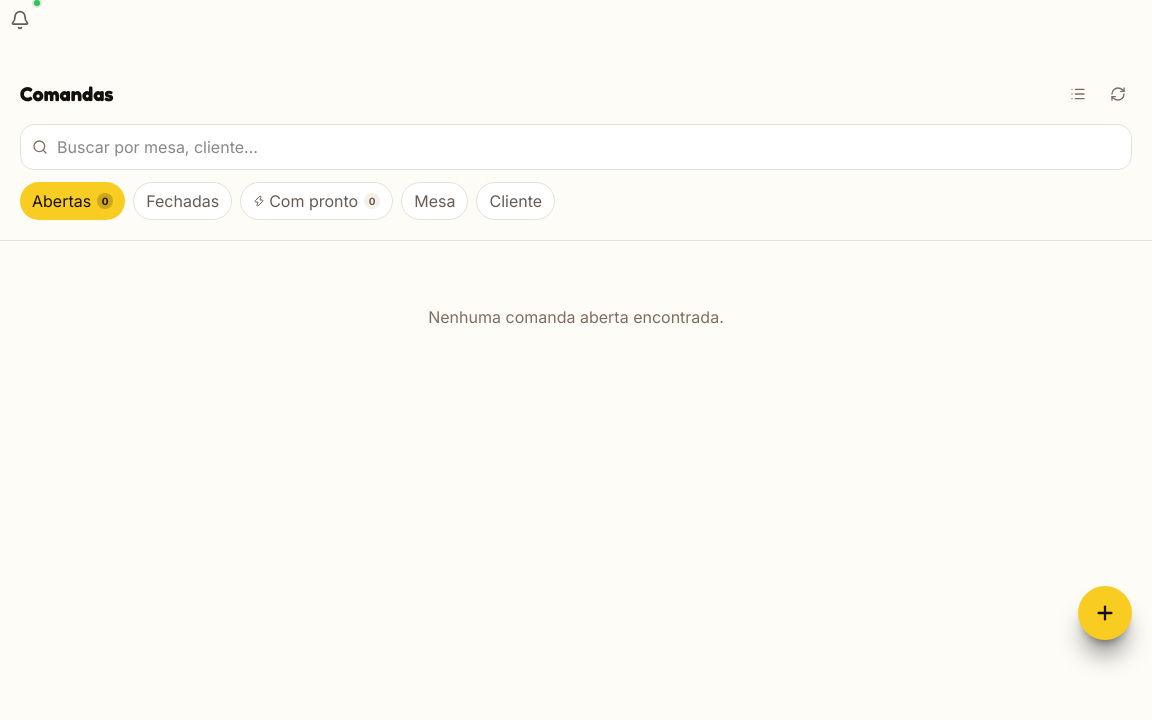
Test case: sino no header › sem alertas: sem badge, e o drawer diz que está vazio
Click the button named "Alertas" at (20, 20), box [0,0,40,40]
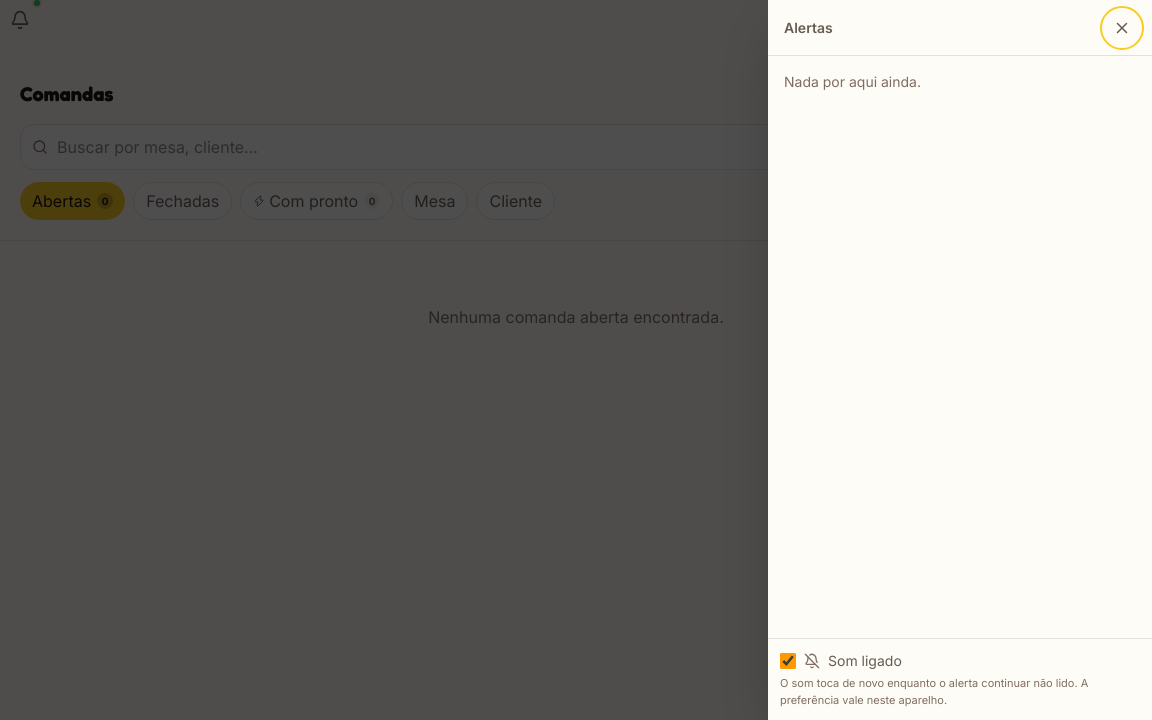
Check: the text "Nada por aqui ainda." is shown, box [784,73,921,90]
